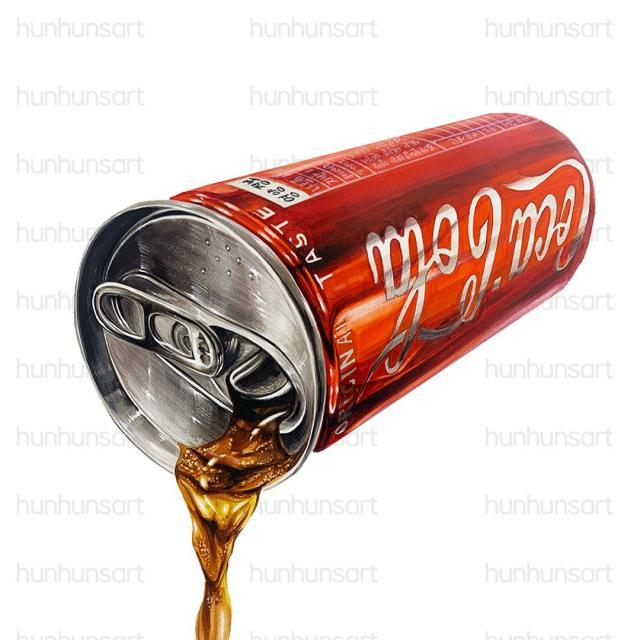coca-cola: (72, 107, 596, 491)
